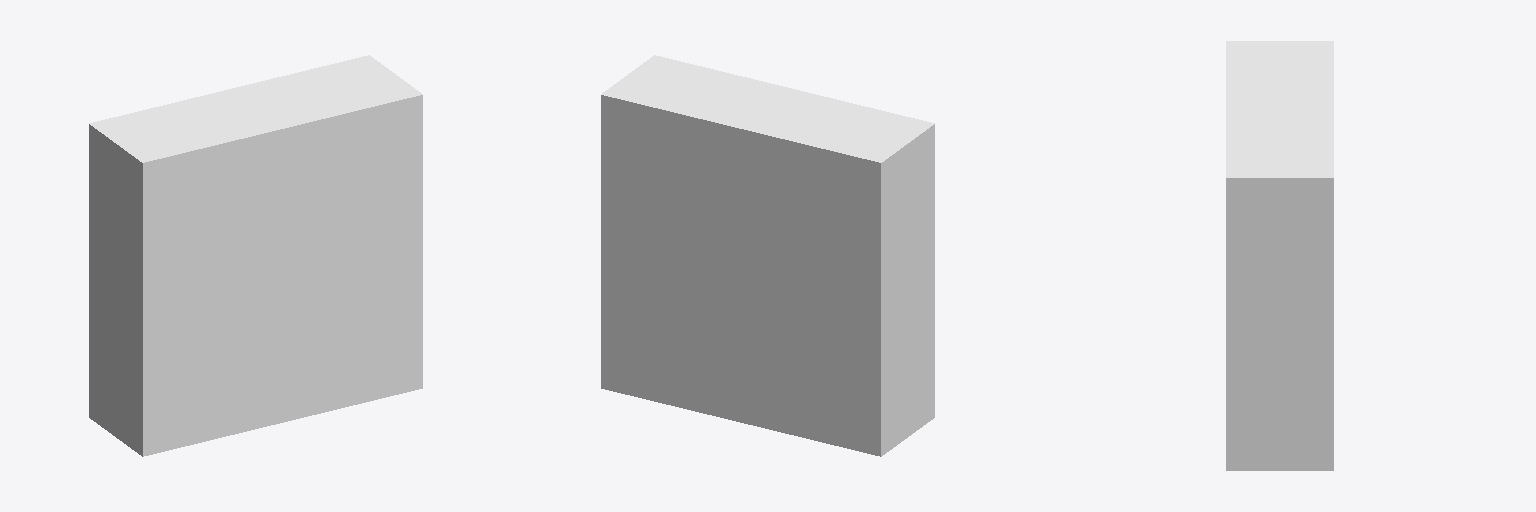
Rendered from BottonBlackGreen.obj.
3 renders of one model, left to right at view 1: azimuth 30°, elevation 25°; view 2: azimuth 150°, elevation 25°; view 3: azimuth 270°, elevation 25°, orthographic.
Bounding box in the file's own units: 3 × 3 × 1.